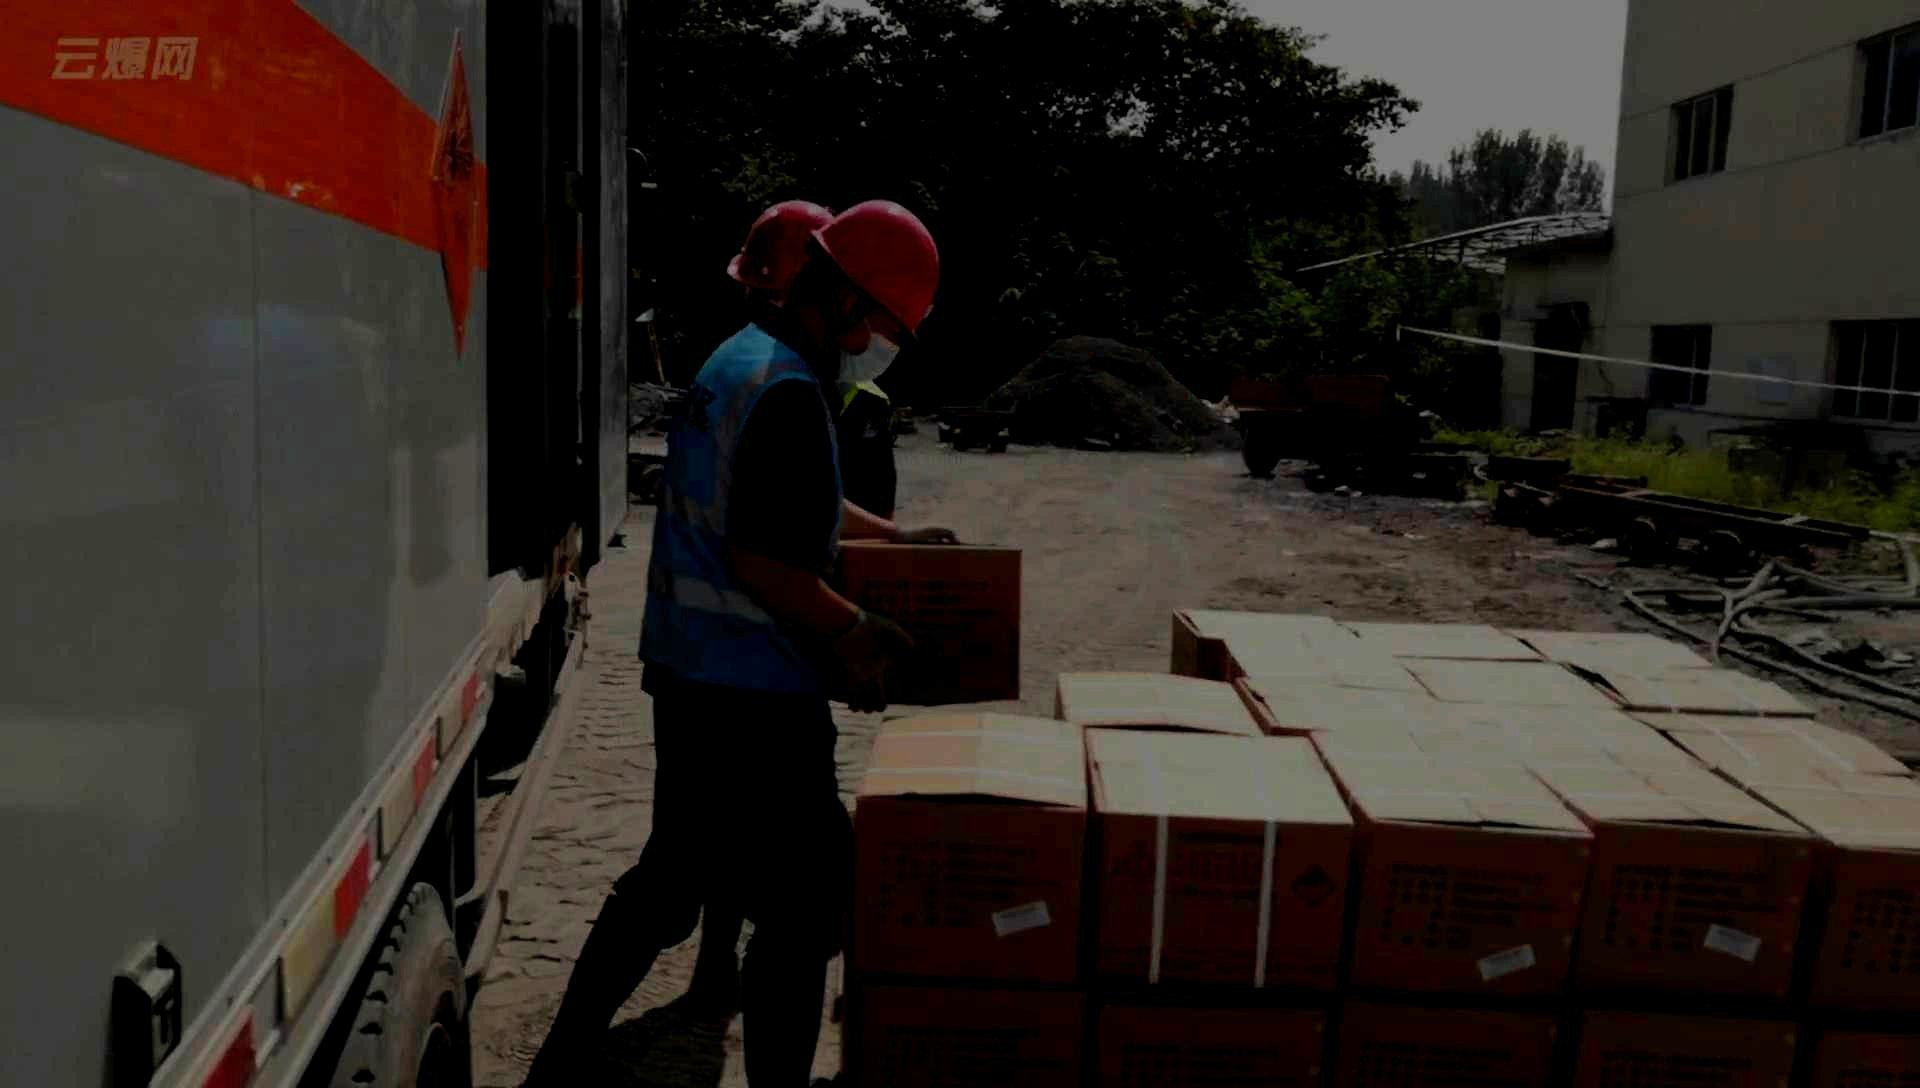helmet: (787, 199, 940, 382), (727, 199, 835, 323)
